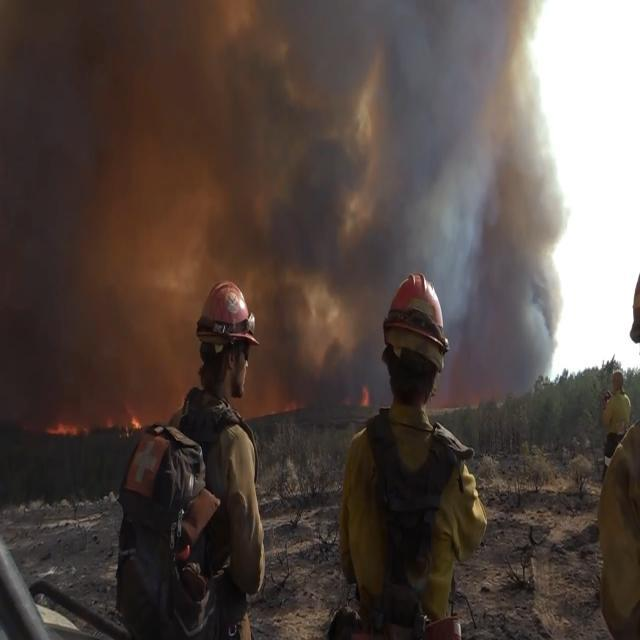Fire: (39, 399, 142, 438)
